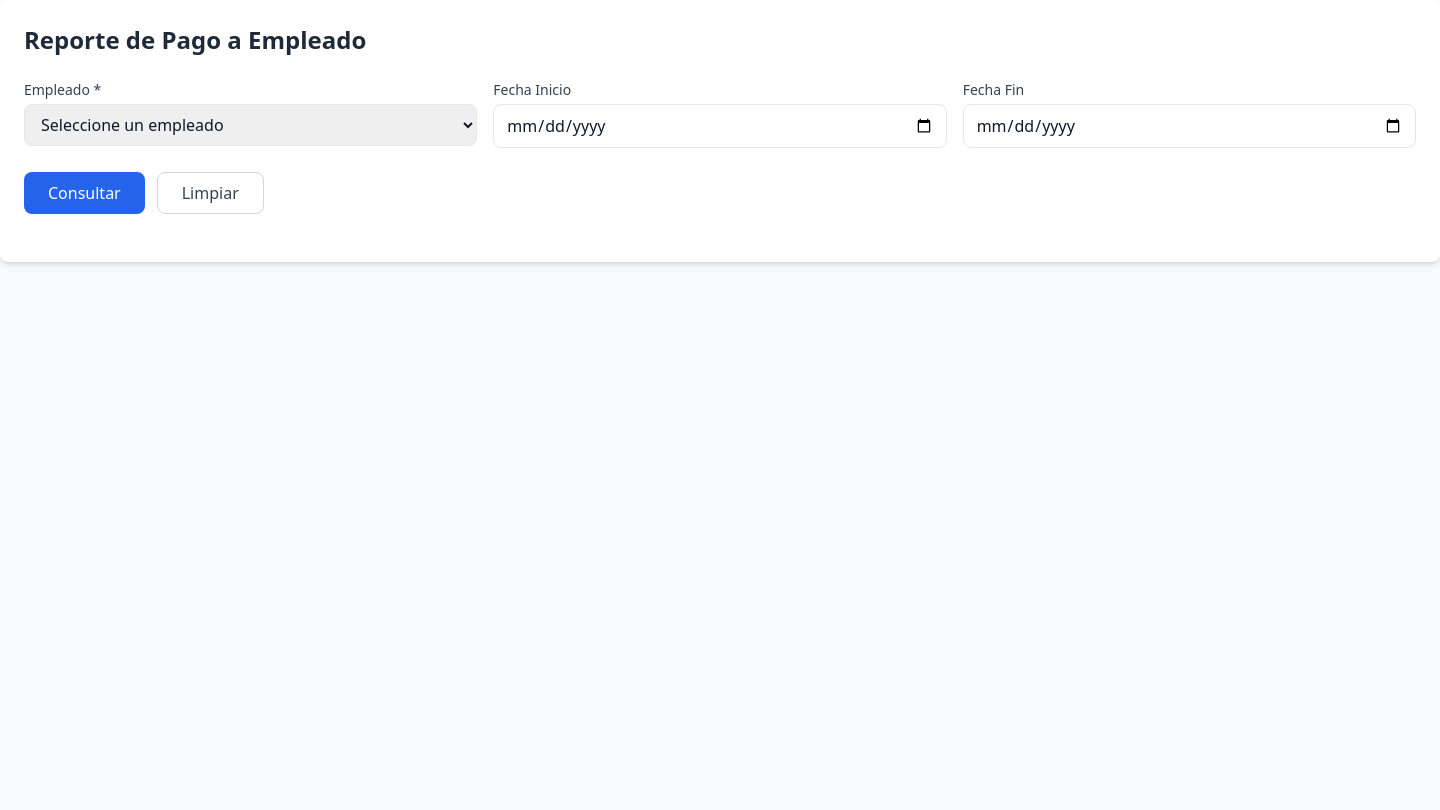
Test case: PagoEmpleadoReport › muestra información del empleado y total a pagar
Select "Juan Pérez" in the dropdown at (251, 125), box [24, 104, 477, 146]
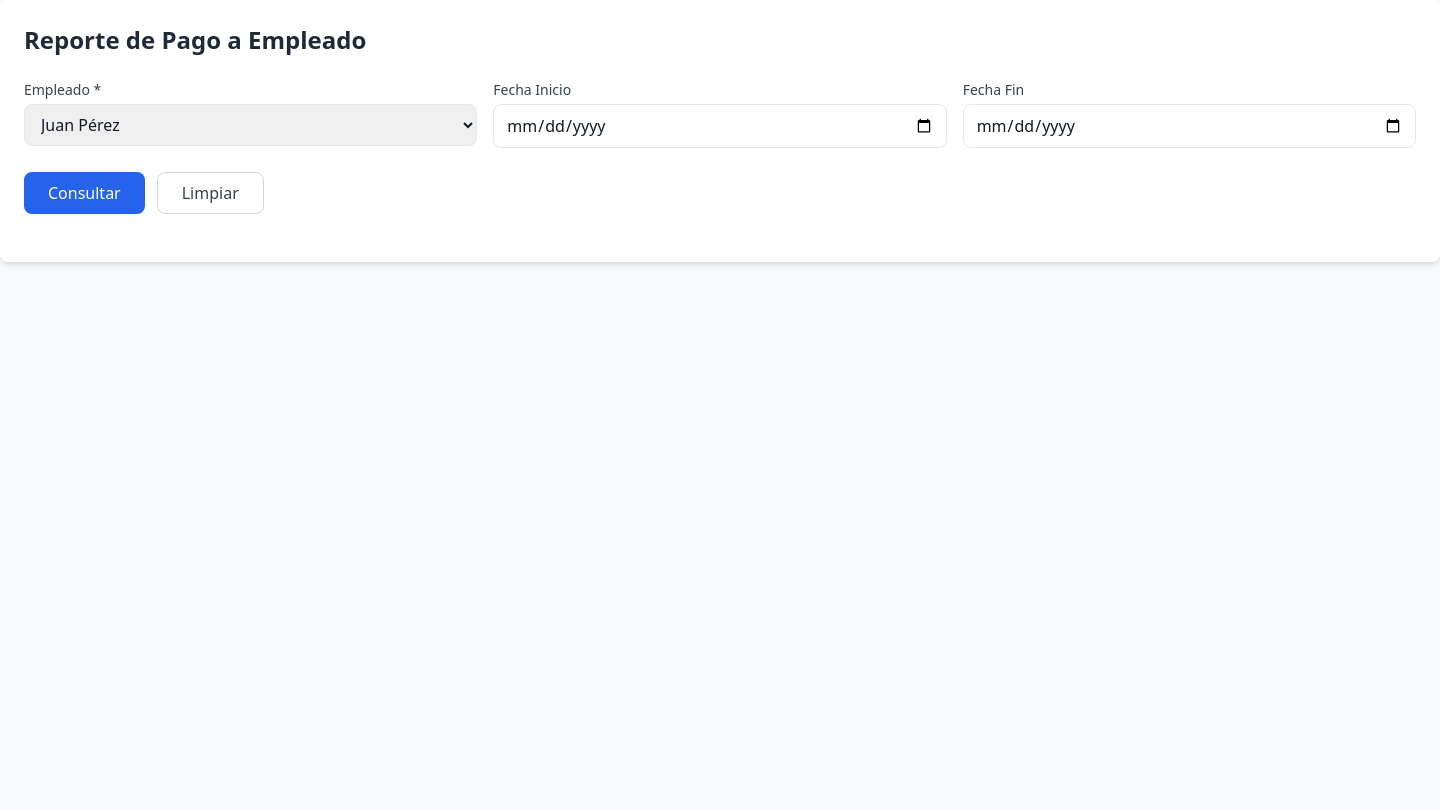
Click the button "Consultar" at (84, 193), box [24, 172, 145, 214]
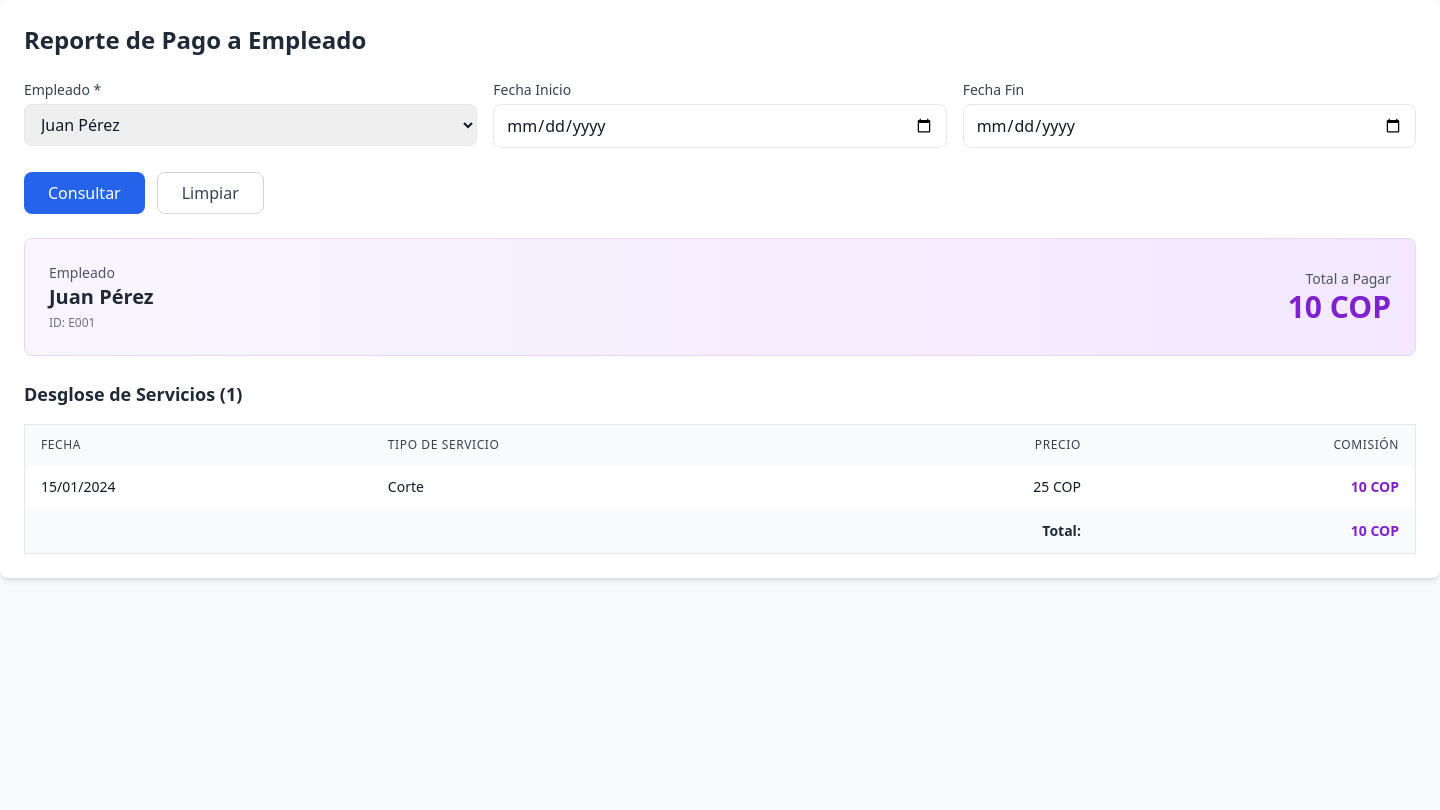
Check: the text "Juan Pérez" is shown, box [49, 283, 154, 311]
Check: the text "E001" is shown, box [49, 314, 95, 331]
Check: the text "Total a Pagar" is shown, box [1306, 269, 1391, 288]
